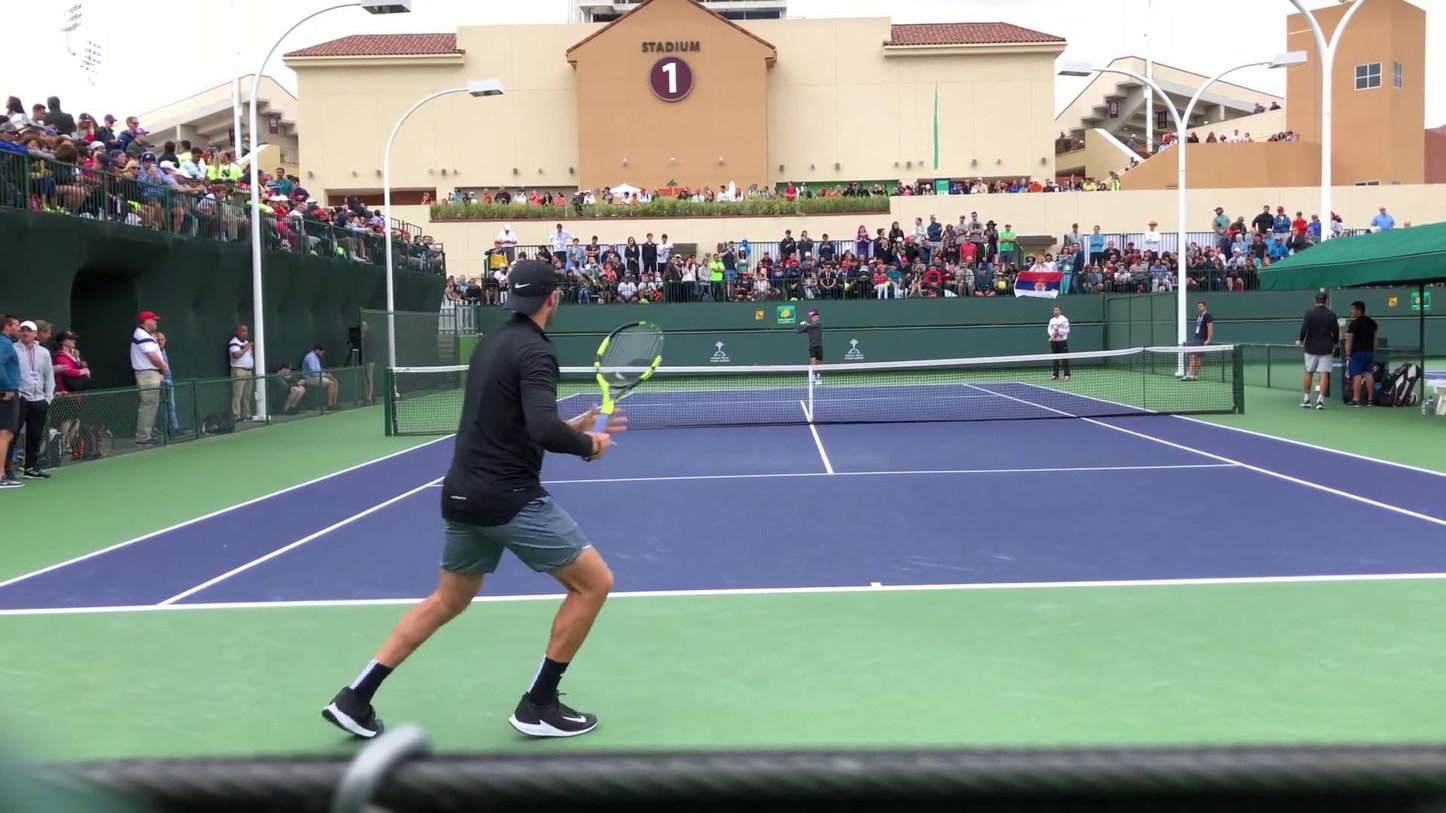ball: (886, 280, 891, 286)
